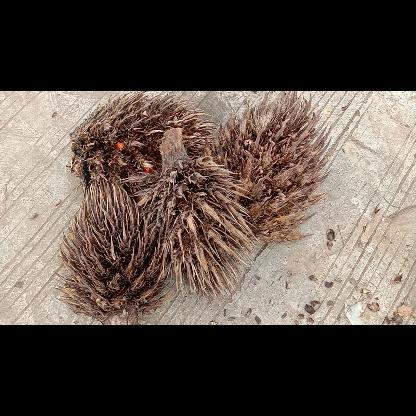Janjang kosong: (132, 128, 256, 304), (201, 91, 330, 243), (53, 178, 172, 324), (69, 90, 217, 192)
